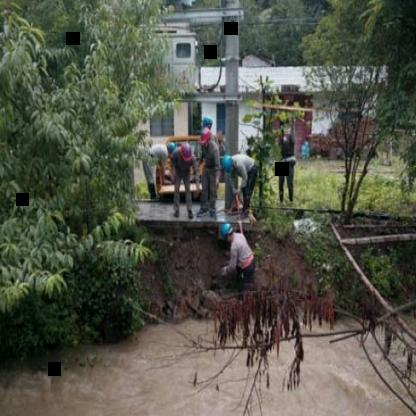helmet: (177, 141, 193, 164), (221, 220, 237, 242), (221, 153, 238, 173), (200, 126, 213, 150), (164, 140, 176, 157)
